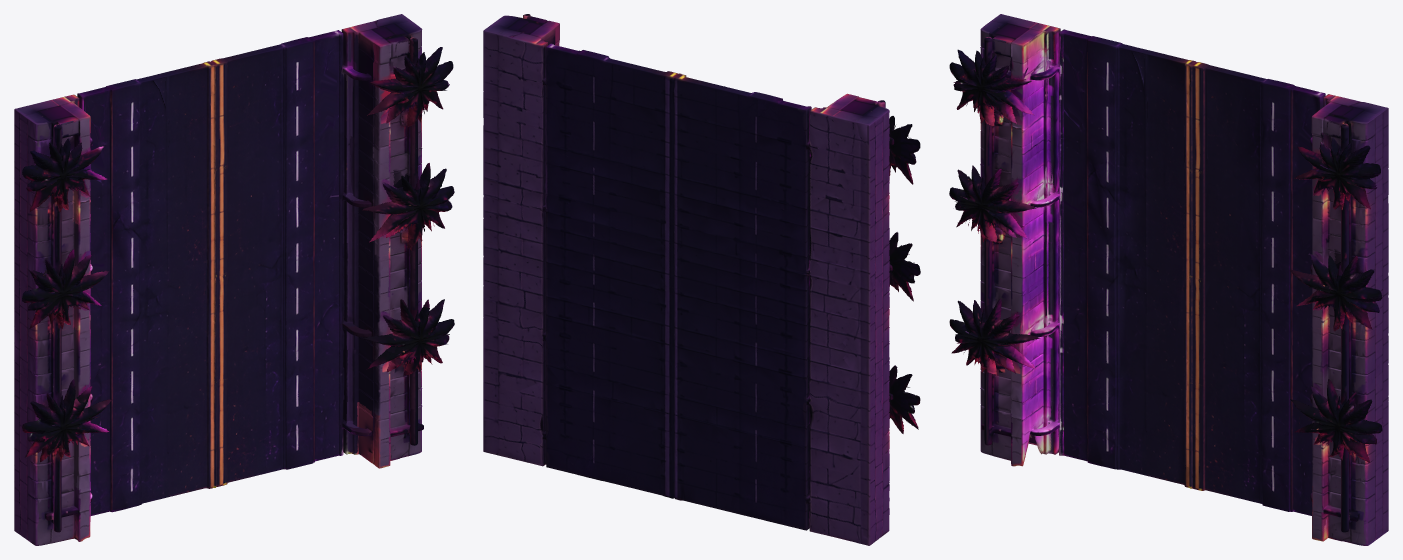
Rendered from Road.glb.
3 renders of one model, left to right at view 1: azimuth 30°, elevation 25°; view 2: azimuth 150°, elevation 25°; view 3: azimuth 330°, elevation 25°, orthographic.
Parts seen in each view (by area): view 1: tmp62q3gsdgobj; view 2: tmp62q3gsdgobj; view 3: tmp62q3gsdgobj.
Boxes of the visible parts, x1,y1,x2,y2 form: tmp62q3gsdgobj: [14, 14, 454, 545]; tmp62q3gsdgobj: [483, 14, 920, 545]; tmp62q3gsdgobj: [949, 14, 1388, 545].
Size of the model in its own units: 1 by 0.9375 by 0.1525.
Materials: 1 (1 with a texture image).
